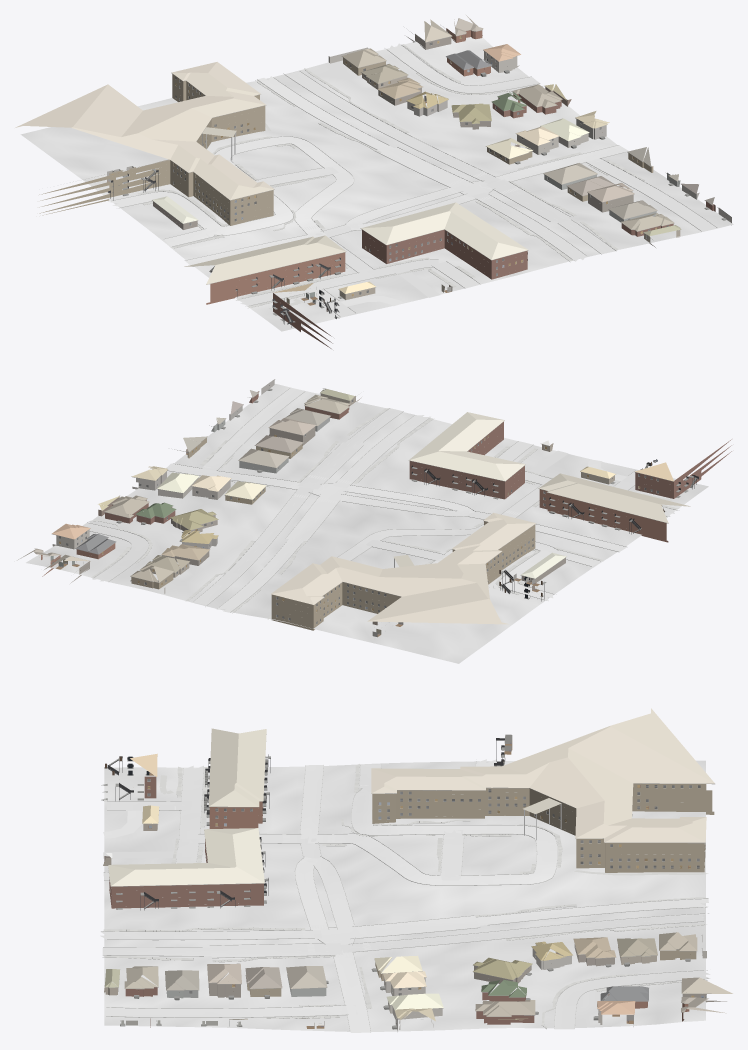
The picture shows the model from 3 angles, top to bottom: view 1: azimuth 30°, elevation 25°; view 2: azimuth 150°, elevation 25°; view 3: azimuth 270°, elevation 25°; orthographic projection. The views are drawn at different scales.
Parts seen in each view (by area): view 1: ground, roof, wall, concrete, asphalt, curb, walk, detail, wall_stucco, mark_w, wall_stone, glass; view 2: ground, roof, wall, asphalt, concrete, curb, detail, walk, wall_stucco, mark_w, wall_stone, glass; view 3: ground, roof, wall, concrete, asphalt, curb, walk, detail, wall_stucco, mark_w, glass, rail.
Boxes of the visible parts, <box> form: ground: <box>20,32,733,331</box>; roof: <box>15,15,714,293</box>; wall: <box>39,28,715,348</box>; concrete: <box>108,43,716,316</box>; asphalt: <box>185,71,615,266</box>; curb: <box>112,45,717,316</box>; walk: <box>137,44,644,318</box>; detail: <box>70,30,730,327</box>; wall_stucco: <box>328,47,680,221</box>; mark_w: <box>206,71,614,291</box>; wall_stone: <box>407,100,731,225</box>; glass: <box>112,31,668,294</box>; ground: <box>26,384,708,663</box>; roof: <box>17,389,690,624</box>; wall: <box>41,391,731,630</box>; asphalt: <box>193,408,626,612</box>; concrete: <box>82,388,674,601</box>; curb: <box>87,388,677,613</box>; detail: <box>42,379,698,631</box>; walk: <box>90,408,679,619</box>; wall_stucco: <box>52,417,329,593</box>; mark_w: <box>194,408,564,612</box>; wall_stone: <box>132,379,274,549</box>; glass: <box>52,400,658,623</box>; ground: <box>104,760,705,1031</box>; roof: <box>104,708,732,1021</box>; wall: <box>103,776,726,1027</box>; concrete: <box>103,759,710,1032</box>; asphalt: <box>100,765,708,957</box>; curb: <box>101,759,708,1032</box>; walk: <box>103,764,708,1028</box>; detail: <box>101,734,714,1029</box>; wall_stucco: <box>166,935,706,1026</box>; mark_w: <box>103,785,708,1014</box>; glass: <box>147,779,700,995</box>; rail: <box>107,738,504,901</box>.
Bounding box in the file's own units: 299 × 26.61 × 299.
